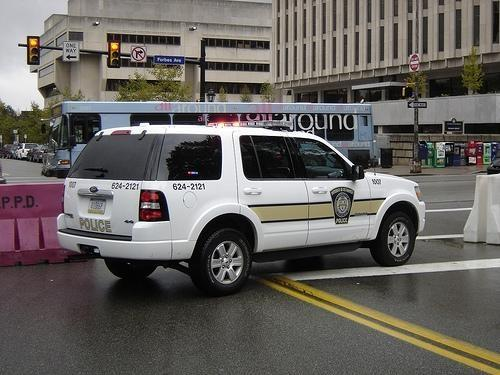bus: (41, 102, 378, 178)
car: (52, 143, 82, 178), (14, 142, 40, 161), (32, 146, 46, 163), (0, 144, 15, 159), (487, 159, 500, 174)
truck: (54, 122, 427, 296)
